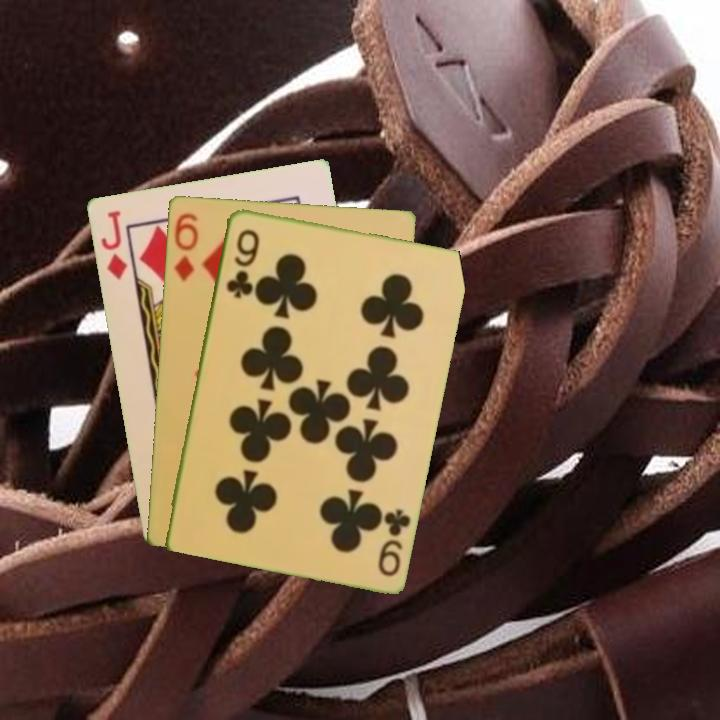6d: (170, 209, 201, 284)
9c: (222, 225, 262, 301), (374, 504, 414, 579)
Jd: (97, 206, 130, 282)
